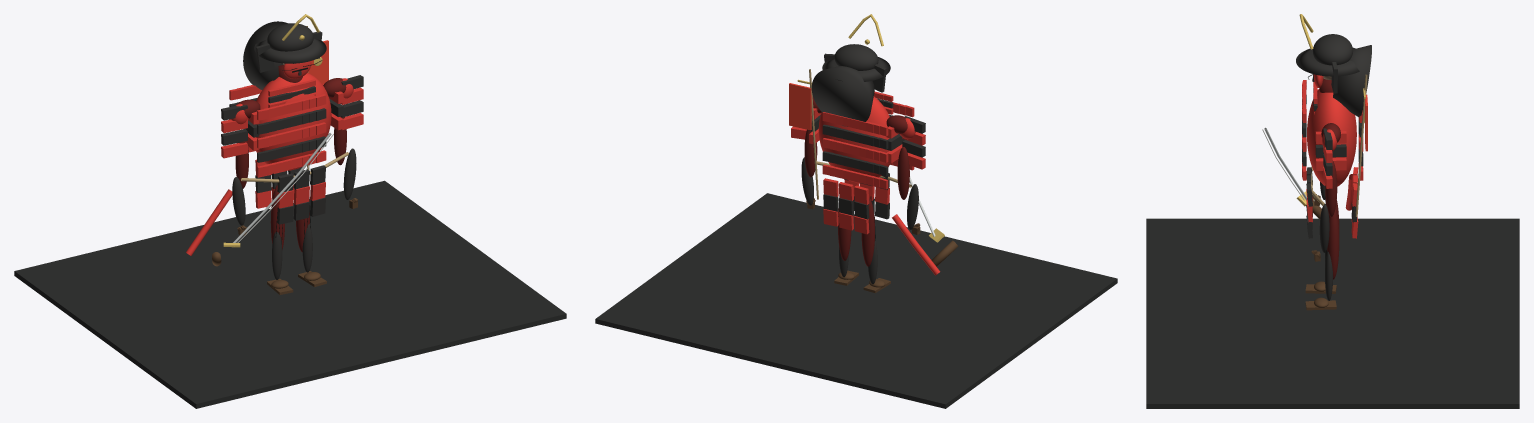
Rendered from samurai_character.glb.
3 views of the same model, side by side, from view 1: azimuth 30°, elevation 25°; view 2: azimuth 150°, elevation 25°; view 3: azimuth 270°, elevation 25° (orthographic). The views are drawn at different scales.
Visible parts, largest first — view 1: matte charcoal inspection plinth, rounded do cuirass silhouette, rear shikoro neck guard flare, segmented kabuto helmet bowl, wide kabuto brim, lacquered saya scabbard at left hip, left kote forearm guard, right kote forearm guard; view 2: matte charcoal inspection plinth, rear shikoro neck guard flare, rounded do cuirass silhouette, cloth sashimono banner panel, segmented kabuto helmet bowl, left hakama trouser leg, left armored upper arm, lacquered saya scabbard at left hip; view 3: matte charcoal inspection plinth, rounded do cuirass silhouette, rear shikoro neck guard flare, segmented kabuto helmet bowl, wide kabuto brim, right hakama trouser leg, right armored upper arm, right kote forearm guard, bamboo sashimono back pole.
Boxes of the visible parts, x1,y1,x2,y2 form: matte charcoal inspection plinth: (14, 180, 566, 408); rounded do cuirass silhouette: (256, 73, 331, 170); rear shikoro neck guard flare: (243, 21, 287, 89); segmented kabuto helmet bowl: (267, 23, 313, 51); wide kabuto brim: (254, 38, 326, 63); lacquered saya scabbard at left hip: (186, 189, 232, 255); left kote forearm guard: (232, 177, 245, 225); right kote forearm guard: (343, 148, 356, 199); matte charcoal inspection plinth: (595, 193, 1117, 408); rear shikoro neck guard flare: (811, 66, 874, 126); rounded do cuirass silhouette: (818, 96, 890, 182); cloth sashimono banner panel: (789, 83, 811, 130); segmented kabuto helmet bowl: (834, 44, 878, 70); left hakama trouser leg: (861, 197, 874, 266); left armored upper arm: (897, 147, 909, 199); lacquered saya scabbard at left hip: (892, 214, 940, 275); matte charcoal inspection plinth: (1146, 218, 1519, 408); rounded do cuirass silhouette: (1307, 88, 1356, 186); rear shikoro neck guard flare: (1333, 45, 1371, 117); segmented kabuto helmet bowl: (1313, 34, 1352, 65); wide kabuto brim: (1296, 47, 1359, 76); right hakama trouser leg: (1327, 208, 1339, 279); right armored upper arm: (1325, 160, 1337, 216); right kote forearm guard: (1319, 204, 1329, 252); bamboo sashimono back pole: (1355, 74, 1367, 216).
Bounding box in the file's own units: 4 × 3.04 × 3.4.
